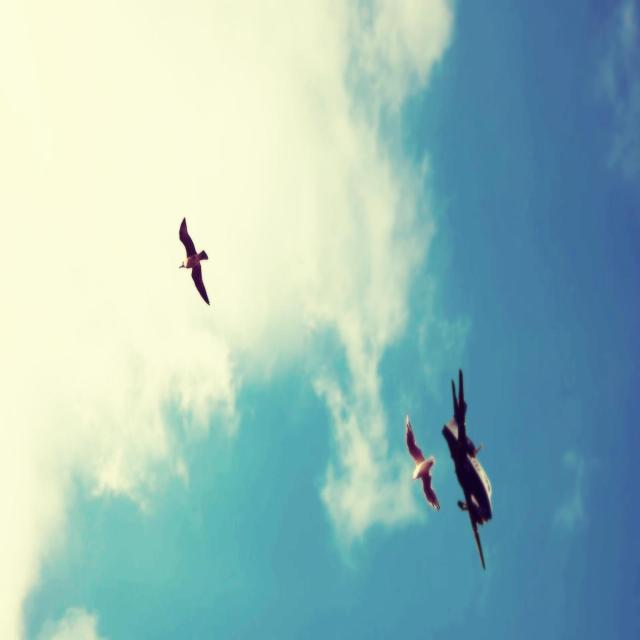airplane: (441, 368, 493, 570)
